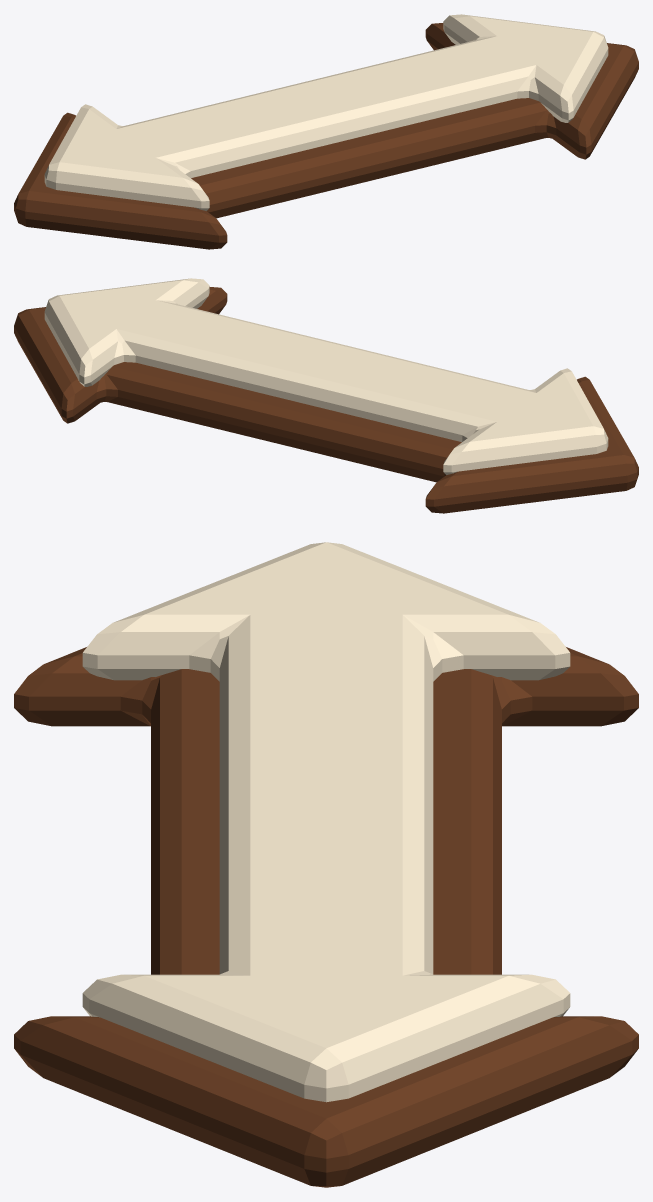
Rendered from AxisArrow.fbx.
The picture shows the model from 3 angles, top to bottom: view 1: azimuth 30°, elevation 25°; view 2: azimuth 150°, elevation 25°; view 3: azimuth 270°, elevation 25°; orthographic projection. The views are drawn at different scales.
Parts seen in each view (by area): view 1: AxisArrow; view 2: AxisArrow; view 3: AxisArrow.
Boxes of the visible parts, x1,y1,x2,y2 form: AxisArrow: (14, 14, 638, 249); AxisArrow: (14, 278, 638, 513); AxisArrow: (14, 542, 638, 1187).
Bounding box in the file's own units: 0.9138 × 0.08 × 0.4098.
1 material, 1 textured.
